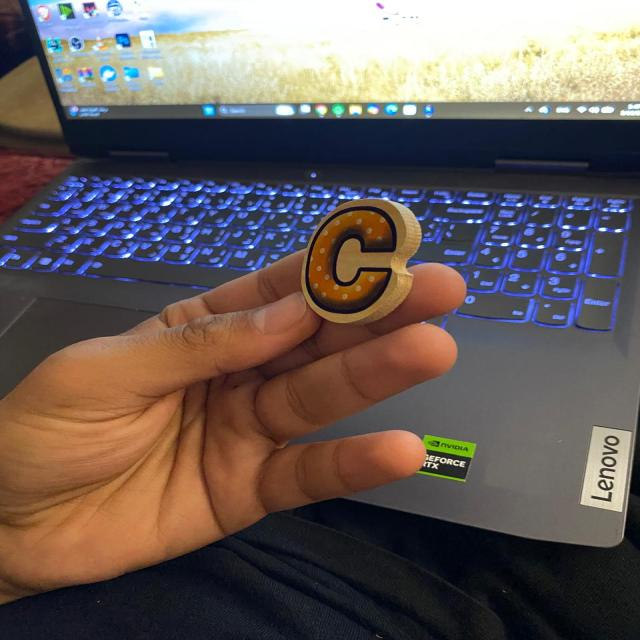C: (301, 198, 421, 324)
